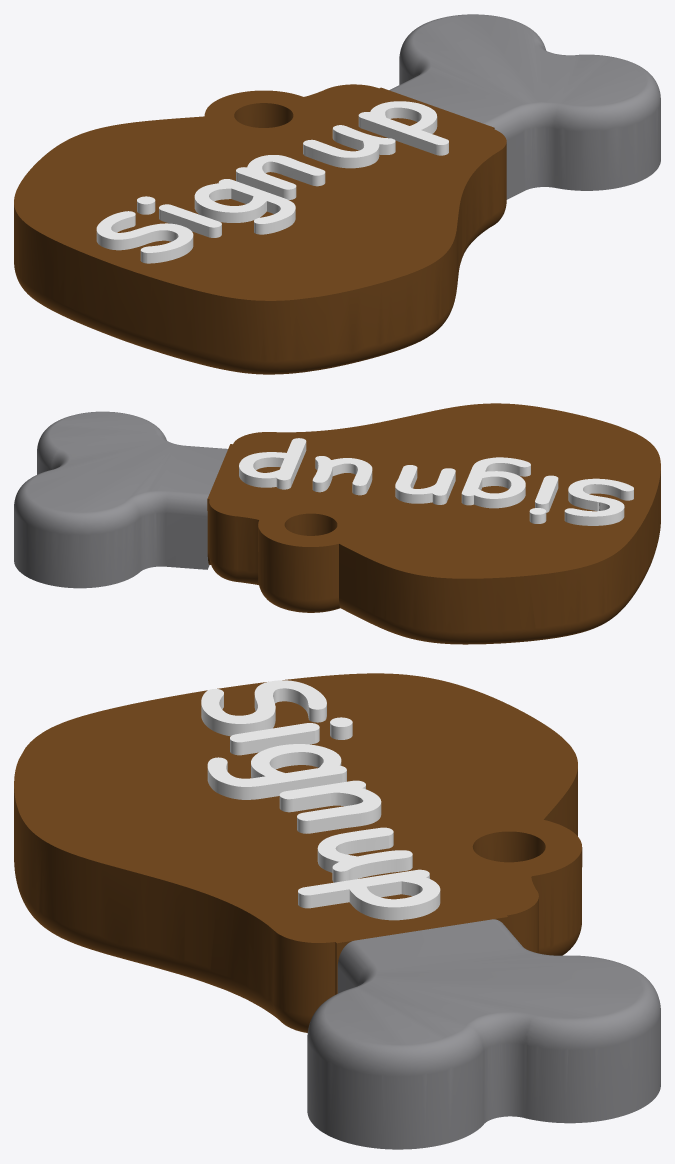
Rendered from Bone_signup2.glb.
3 renders of one model, top to bottom at view 1: azimuth 30°, elevation 25°; view 2: azimuth 150°, elevation 25°; view 3: azimuth 270°, elevation 25°, orthographic. The views are drawn at different scales.
Size of the model in its own units: 0.0502 by 0.0068 by 0.0362.
